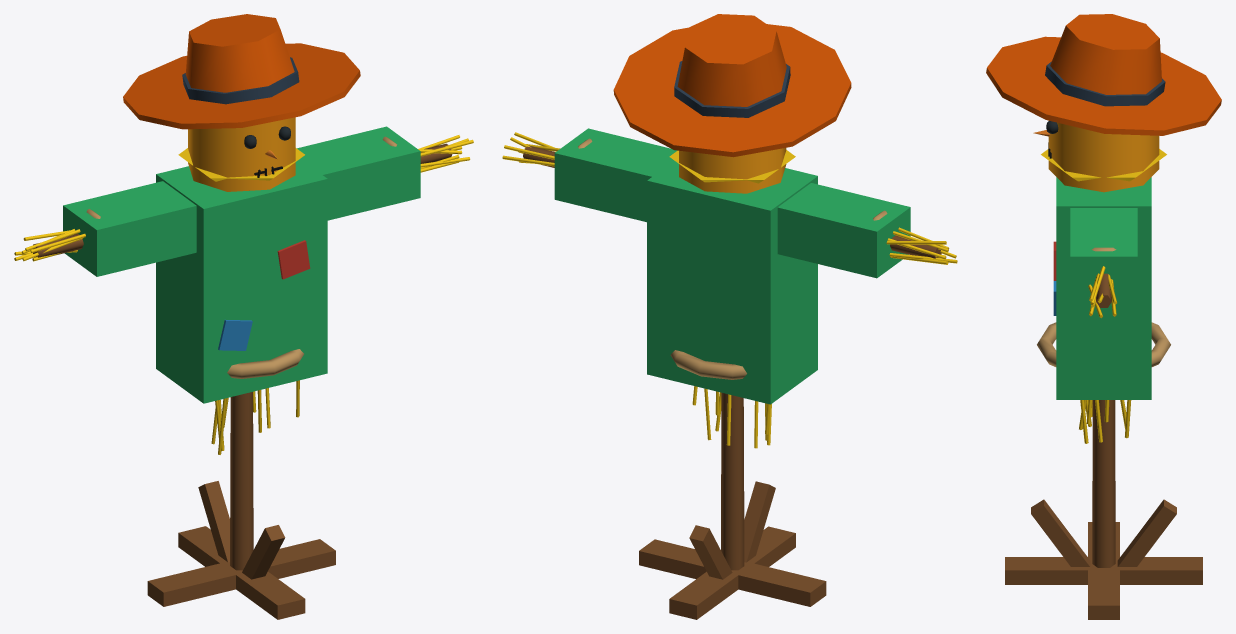
The model's file is scarecrow.glb.
3 views of the same model, side by side, from view 1: azimuth 30°, elevation 25°; view 2: azimuth 150°, elevation 25°; view 3: azimuth 270°, elevation 25° (orthographic).
Visible parts, largest first — view 1: scarecrow; view 2: scarecrow; view 3: scarecrow.
Boxes of the visible parts, x1,y1,x2,y2 form: scarecrow: (14, 14, 473, 619); scarecrow: (502, 14, 957, 619); scarecrow: (986, 14, 1221, 619).
Size of the model in its own units: 1.31 by 1.55 by 0.5955.
